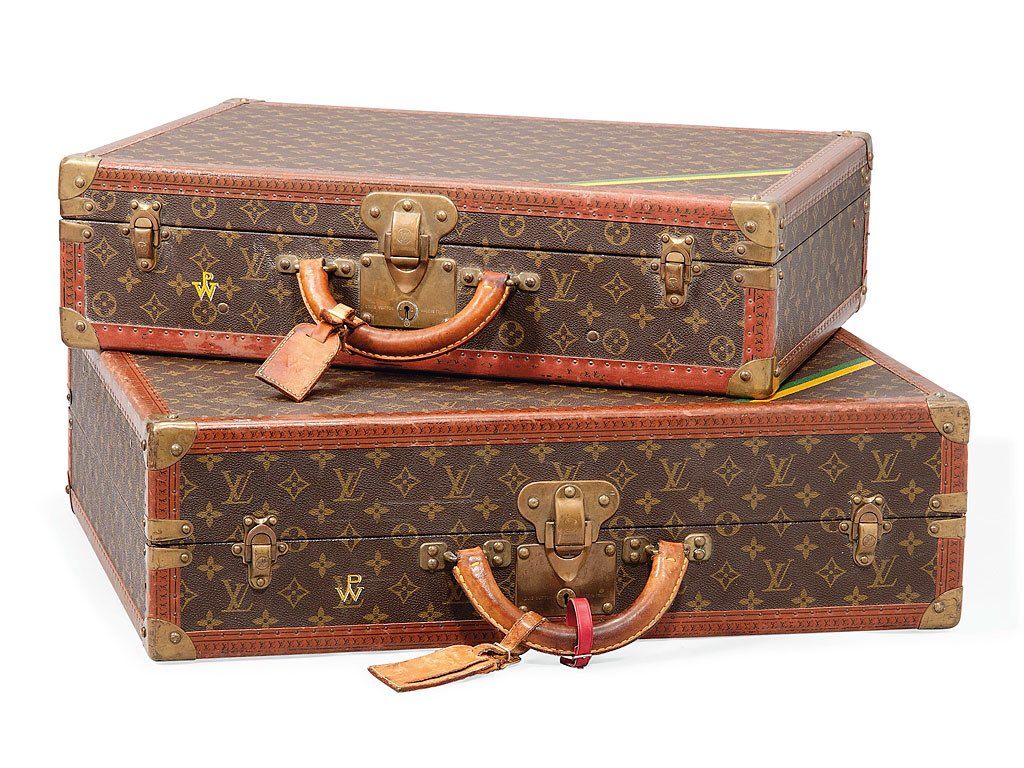LOUIS-VUITTON: (548, 263, 582, 304)
